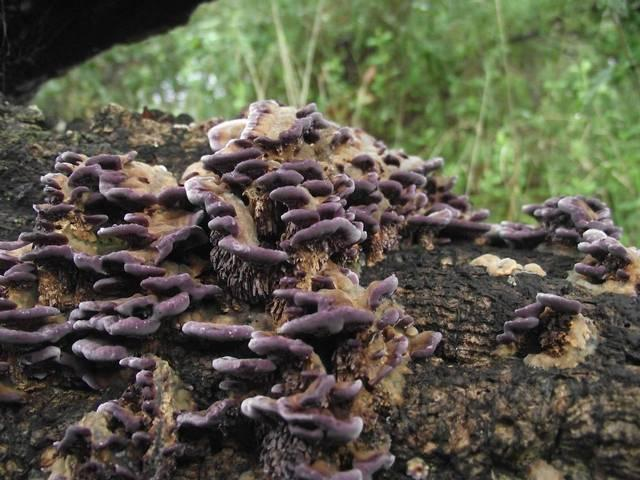Non-edible Mushroom: (1, 97, 638, 478)
